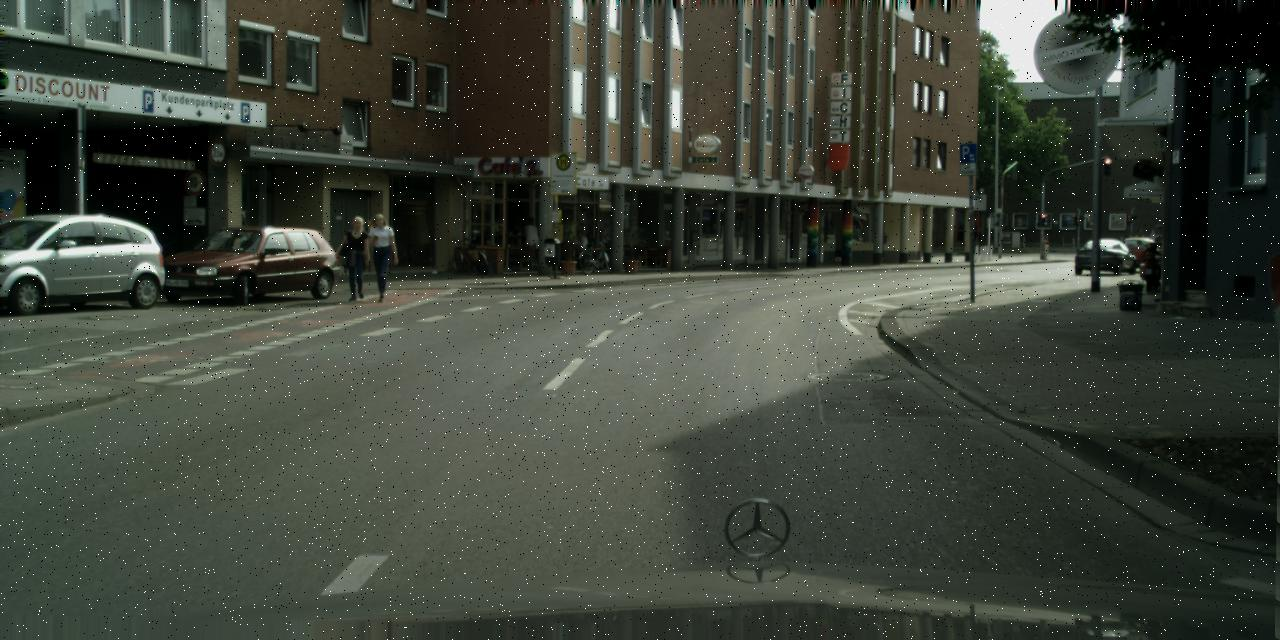ped: (362, 214, 397, 301), (341, 216, 375, 300), (522, 217, 542, 268), (1134, 228, 1145, 257), (1147, 230, 1157, 256), (1040, 234, 1050, 259)
